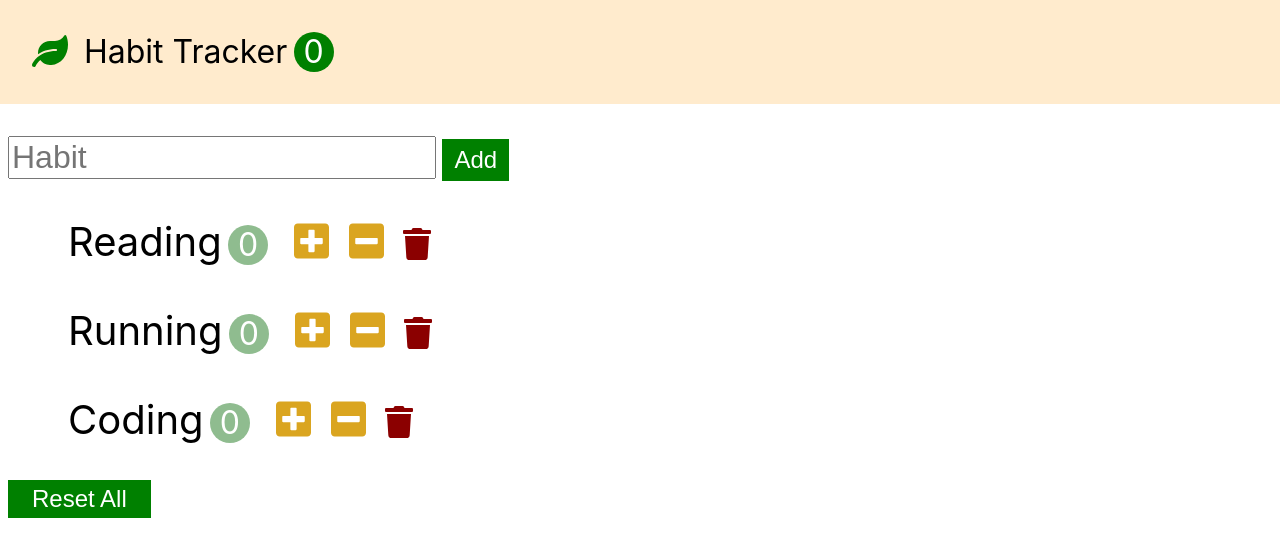
habit-tracker › decreases count
Click the button titled "increase" in the row of "Reading": (312, 243) [288, 219, 335, 266]
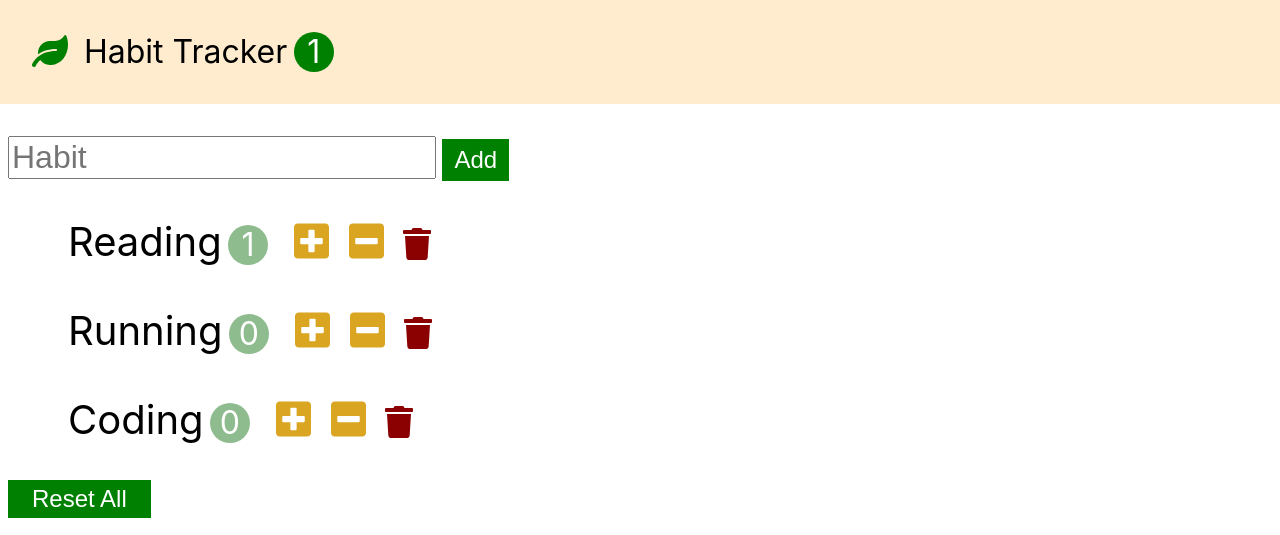
Click the button titled "decrease" in the row of "Reading": (367, 243) [343, 219, 390, 266]
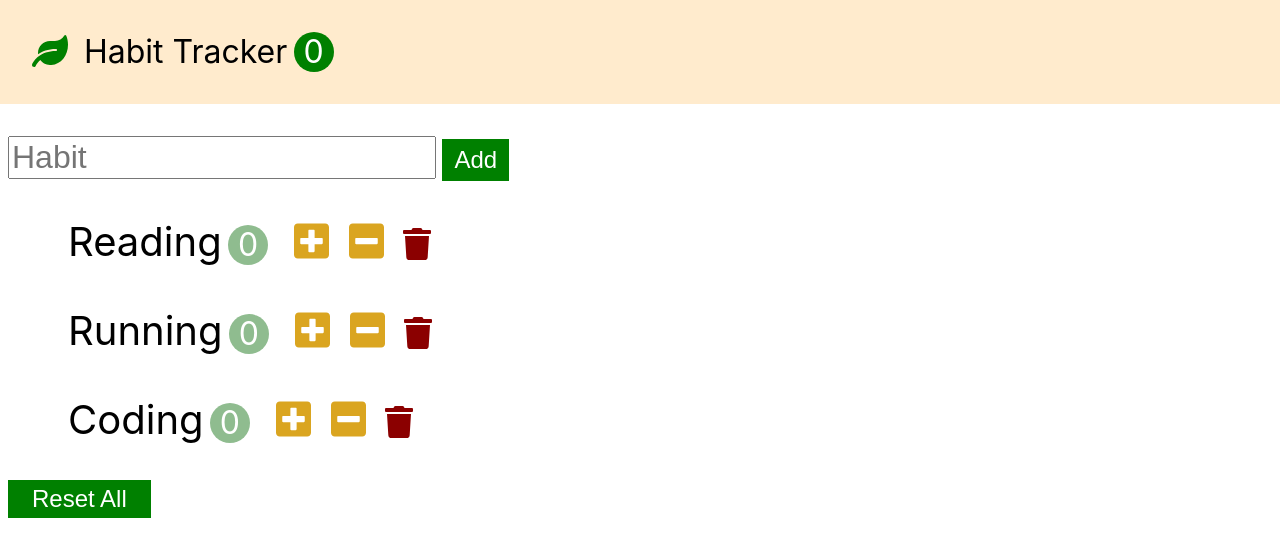
Now the text with test id "habit-count" next to "Reading" reads "0", box [228, 225, 268, 265]
